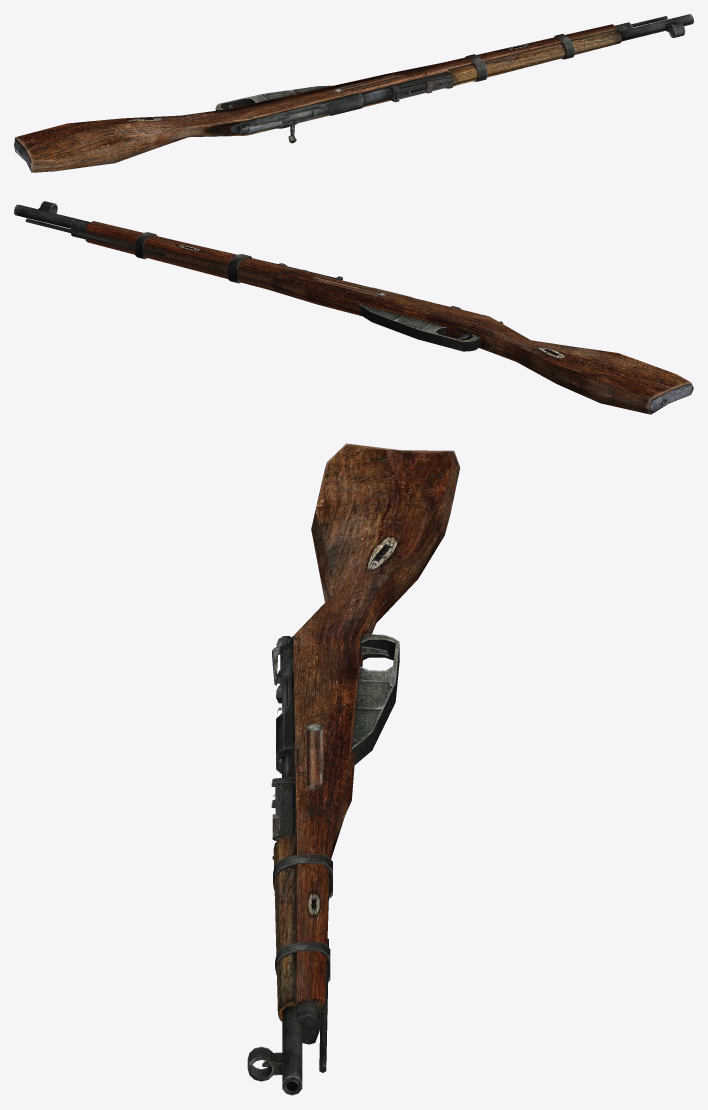
File: weapon_mosinnagant.glb
3 views of the same model, one above another, from view 1: azimuth 30°, elevation 25°; view 2: azimuth 150°, elevation 25°; view 3: azimuth 270°, elevation 25° (orthographic). The views are drawn at different scales.
Bounding box in the file's own units: 50.41 × 2.94 × 7.16.
1 material, 1 textured.
